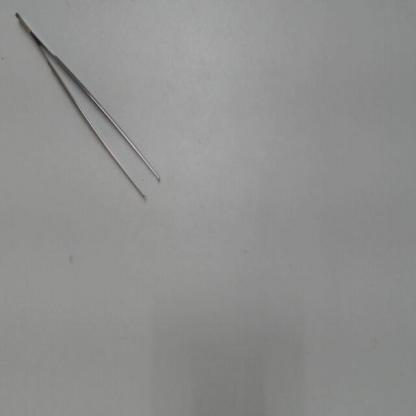Gillies Toothed Dissector: (10, 3, 168, 219)
